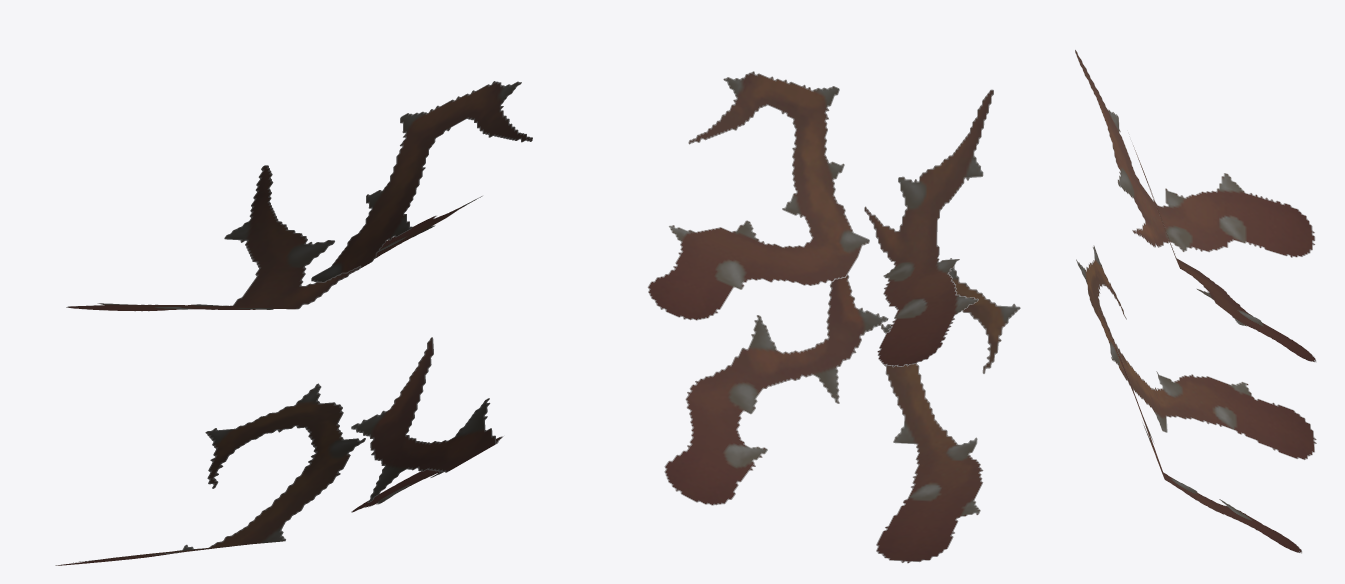
Rendered from vine_x1_01.glb.
3 views of the same model, side by side, from view 1: azimuth 30°, elevation 25°; view 2: azimuth 150°, elevation 25°; view 3: azimuth 270°, elevation 25° (orthographic). The views are drawn at different scales.
Parts seen in each view (by area): view 1: thicket.vine_x1_01-MeshNodes["thicket_x1_01"]; view 2: thicket.vine_x1_01-MeshNodes["thicket_x1_01"]; view 3: thicket.vine_x1_01-MeshNodes["thicket_x1_01"].
Part boxes in pixels (x1,y1,x2,y2): thicket.vine_x1_01-MeshNodes["thicket_x1_01"]: (55, 81, 532, 565); thicket.vine_x1_01-MeshNodes["thicket_x1_01"]: (647, 71, 1020, 563); thicket.vine_x1_01-MeshNodes["thicket_x1_01"]: (1075, 49, 1316, 553).
Size of the model in its own units: 1.58 by 1.82 by 0.9647.
Materials: 1 (1 with a texture image).
